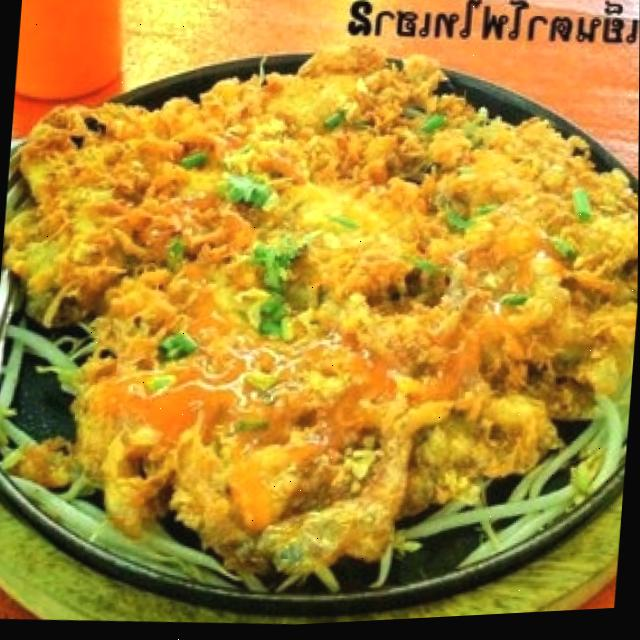炸货点心: (0, 13, 640, 634)
蛋糕甜品: (0, 13, 640, 634)
